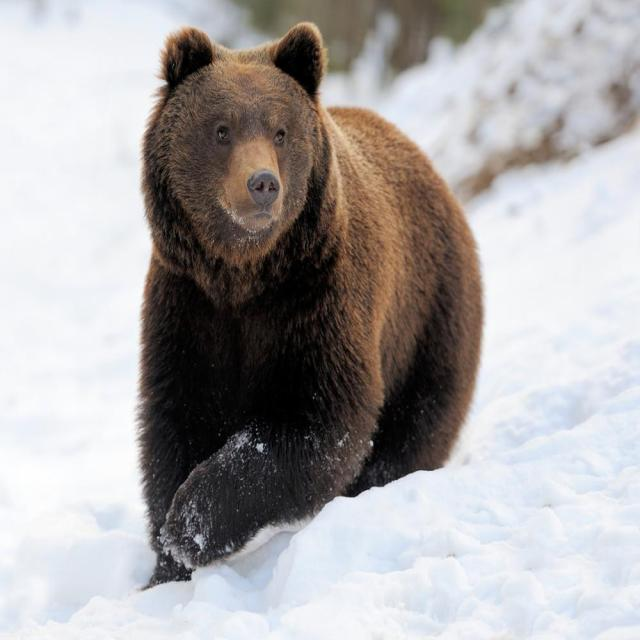Bear: (134, 22, 486, 588)
